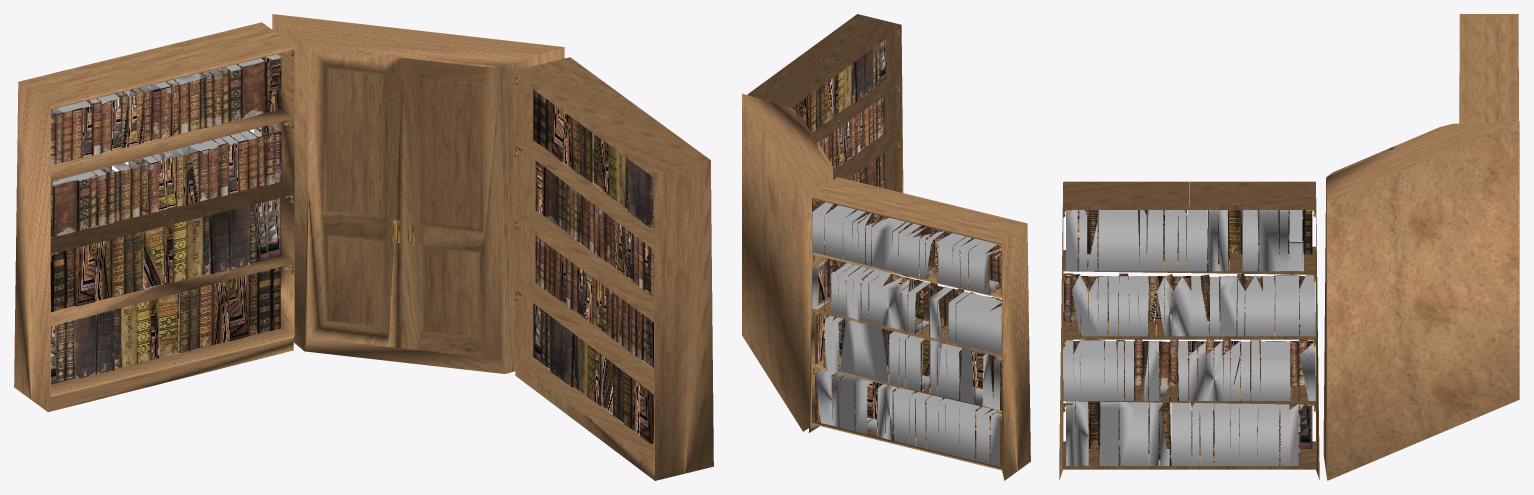
File: bookcase-corner.glb
The picture shows the model from 3 angles, left to right: view 1: azimuth 30°, elevation 25°; view 2: azimuth 150°, elevation 25°; view 3: azimuth 270°, elevation 25°; orthographic projection. The views are drawn at different scales.
Bounding box in the file's own units: 91.43 × 61.12 × 91.43.
4 materials, 3 textured.
